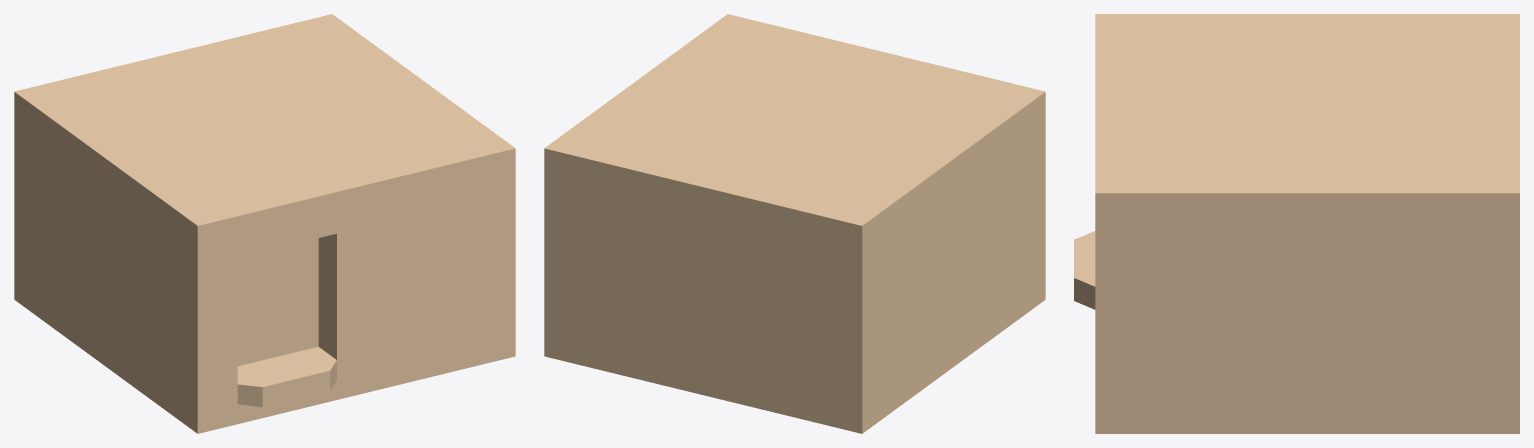
The model's file is building-window-left-sill.obj.
The picture shows the model from 3 angles, left to right: view 1: azimuth 30°, elevation 25°; view 2: azimuth 150°, elevation 25°; view 3: azimuth 270°, elevation 25°; orthographic projection. The views are drawn at different scales.
Size of the model in its own units: 1 by 0.625 by 1.05.
